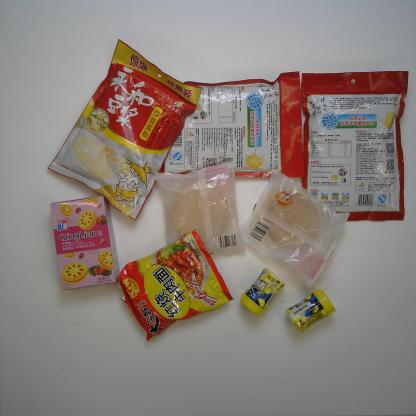Dessert: (236, 170, 352, 291), (155, 159, 246, 261), (50, 194, 119, 291)
Gum: (285, 288, 337, 334), (240, 267, 285, 317)
Instant Drink: (47, 38, 202, 224), (299, 70, 409, 221), (158, 69, 307, 179)
Instant Noodles: (115, 228, 234, 342)
